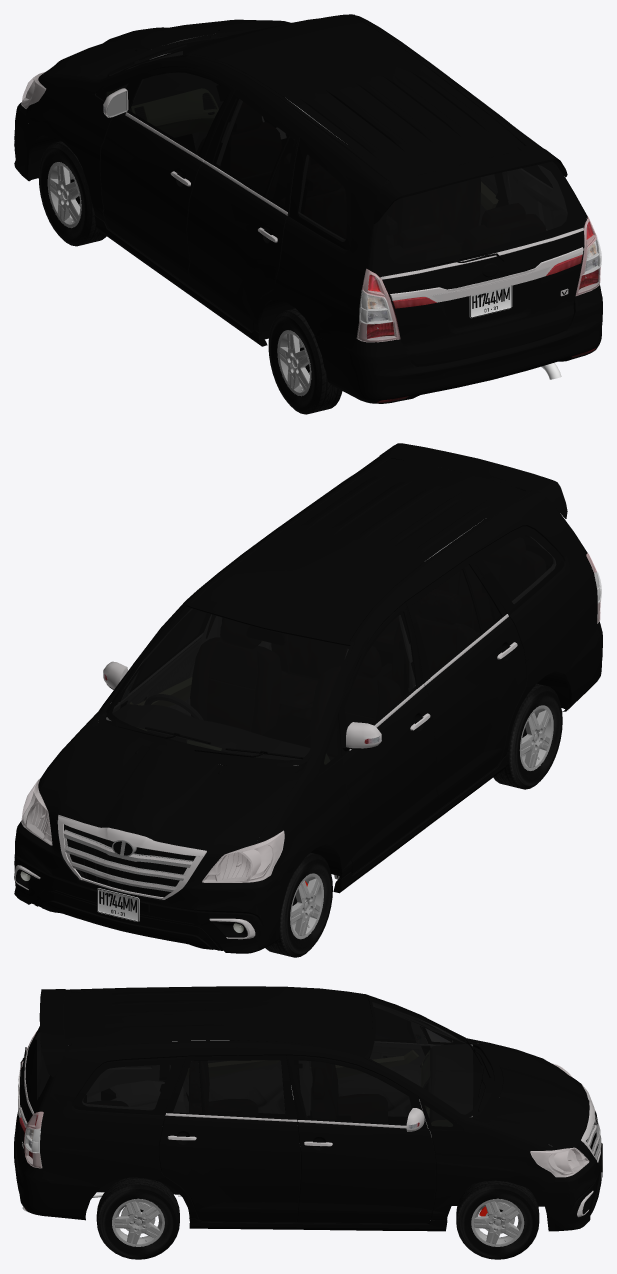
The model's file is 2013_-_2015_toyota_kijang_innova_2.5_v_kun40r.glb.
3 renders of one model, top to bottom at view 1: azimuth 30°, elevation 25°; view 2: azimuth 150°, elevation 25°; view 3: azimuth 270°, elevation 25°, orthographic. The views are drawn at different scales.
Visible parts, largest first — view 1: shell paint, rear windshield, paint trunk door.001, 2008 rear bumper paint, front door paint, rear side door paint.001, wing paint, front window, rear window.002, 2011 hood paint, rear window, 2012 luxury spoiler paint (+22 smaller); view 2: shell paint, windshield, 2011 hood paint, 2013 front bumper paint, rear side door paint.001, front door paint, wing paint, front window, rear window.002, rear window, 2011 headlight glass, wheels (+22 smaller); view 3: shell paint, rear side door paint.001, front door paint, windshield, 2011 hood paint, wing paint, front window, rear window.002, rear window, wheels.016, wheels.010, 2013 front bumper paint (+19 smaller).
Boxes of the visible parts, x1,y1,x2,y2 form: shell paint: [103, 15, 587, 352]; rear windshield: [372, 162, 586, 277]; paint trunk door.001: [382, 230, 584, 366]; 2008 rear bumper paint: [314, 285, 602, 403]; front door paint: [100, 113, 203, 287]; rear side door paint.001: [187, 163, 287, 330]; wing paint: [25, 20, 291, 229]; front window: [129, 72, 228, 153]; rear window.002: [289, 137, 351, 249]; 2011 hood paint: [40, 19, 290, 78]; rear window: [213, 98, 287, 194]; 2012 luxury spoiler paint: [373, 145, 567, 223]; shell paint: [104, 454, 597, 873]; windshield: [108, 606, 349, 763]; 2011 hood paint: [39, 714, 305, 856]; 2013 front bumper paint: [14, 815, 293, 953]; rear side door paint.001: [424, 617, 526, 811]; front door paint: [341, 687, 437, 873]; wing paint: [38, 703, 352, 882]; front window: [344, 612, 415, 727]; rear window.002: [470, 526, 564, 614]; rear window: [412, 569, 480, 674]; 2011 headlight glass: [21, 778, 284, 882]; wheels: [493, 683, 562, 789]; shell paint: [38, 986, 460, 1223]; rear side door paint.001: [158, 1115, 300, 1222]; front door paint: [297, 1122, 435, 1223]; windshield: [369, 997, 485, 1116]; 2011 hood paint: [470, 1040, 589, 1149]; wing paint: [426, 1035, 557, 1223]; front window: [293, 1060, 411, 1125]; rear window.002: [73, 1056, 185, 1115]; rear window: [201, 1060, 285, 1119]; wheels.016: [96, 1177, 179, 1259]; wheels.010: [456, 1180, 539, 1259]; 2013 front bumper paint: [526, 1111, 602, 1231].
Bounding box in the file's own units: 51.97 × 46.84 × 123.
Materials: 44 (5 with a texture image).
